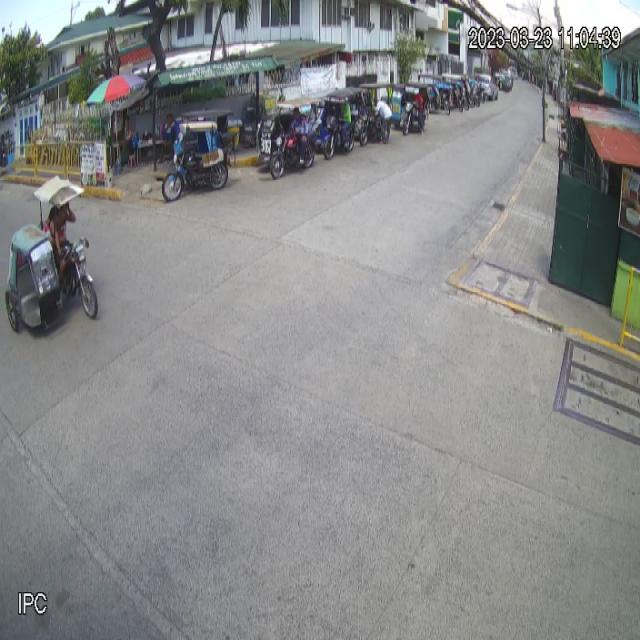Tricycle: (5, 175, 99, 332)
